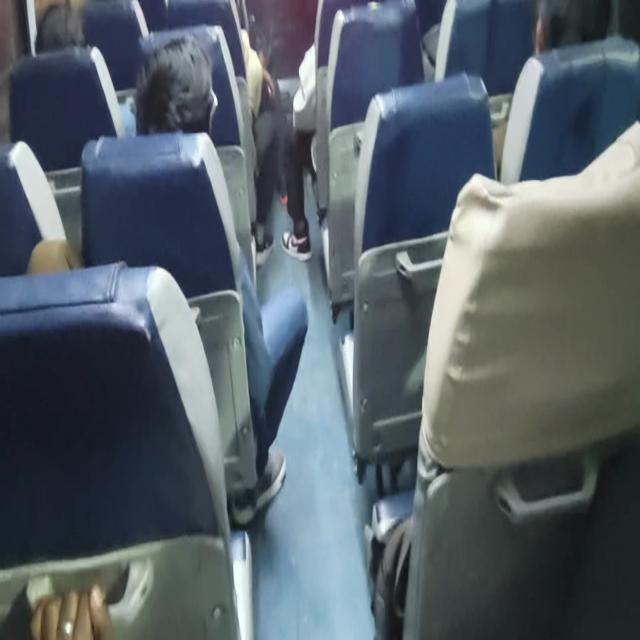person: (128, 26, 222, 136), (515, 0, 614, 66), (34, 0, 88, 53)
